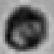correct: (5, 6, 50, 48)
